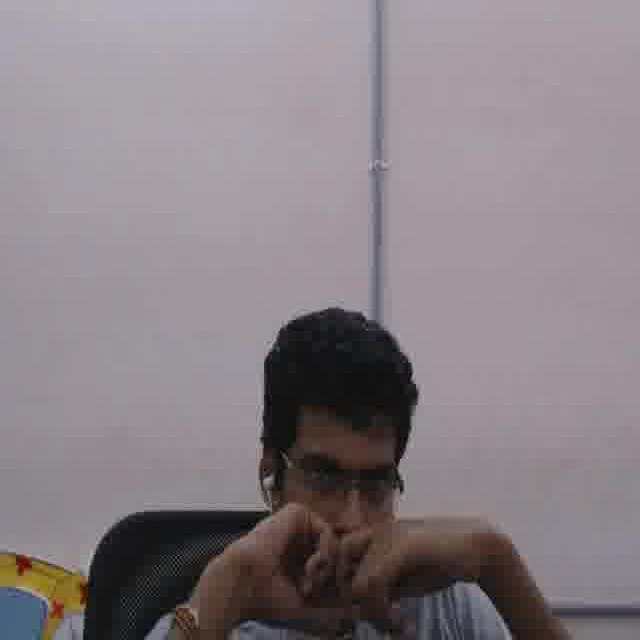Confusion: (277, 403, 402, 605)
